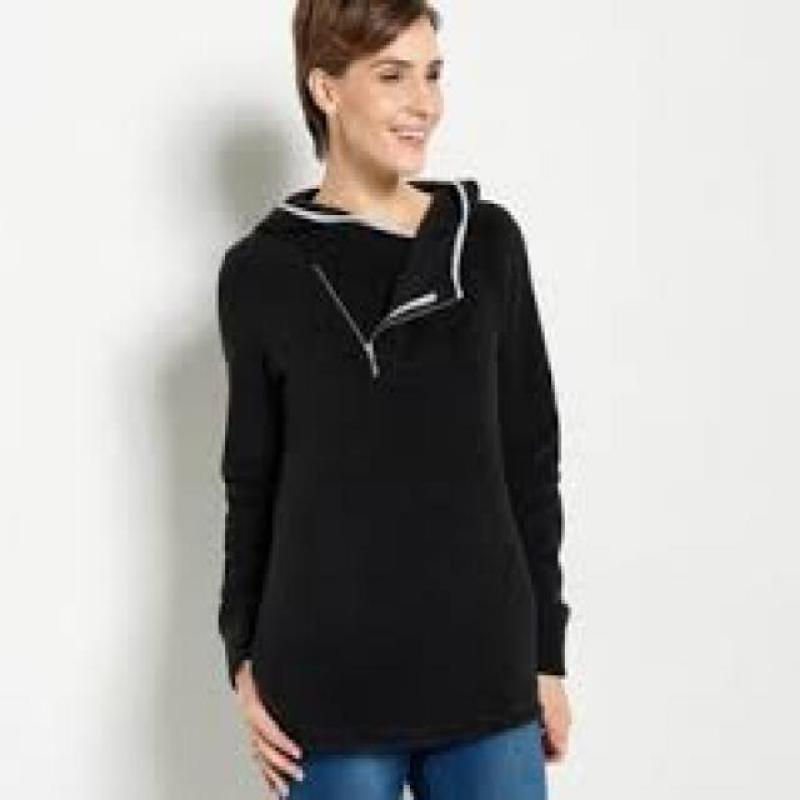sweater: (214, 177, 571, 752)
trousers: (279, 715, 551, 800)
